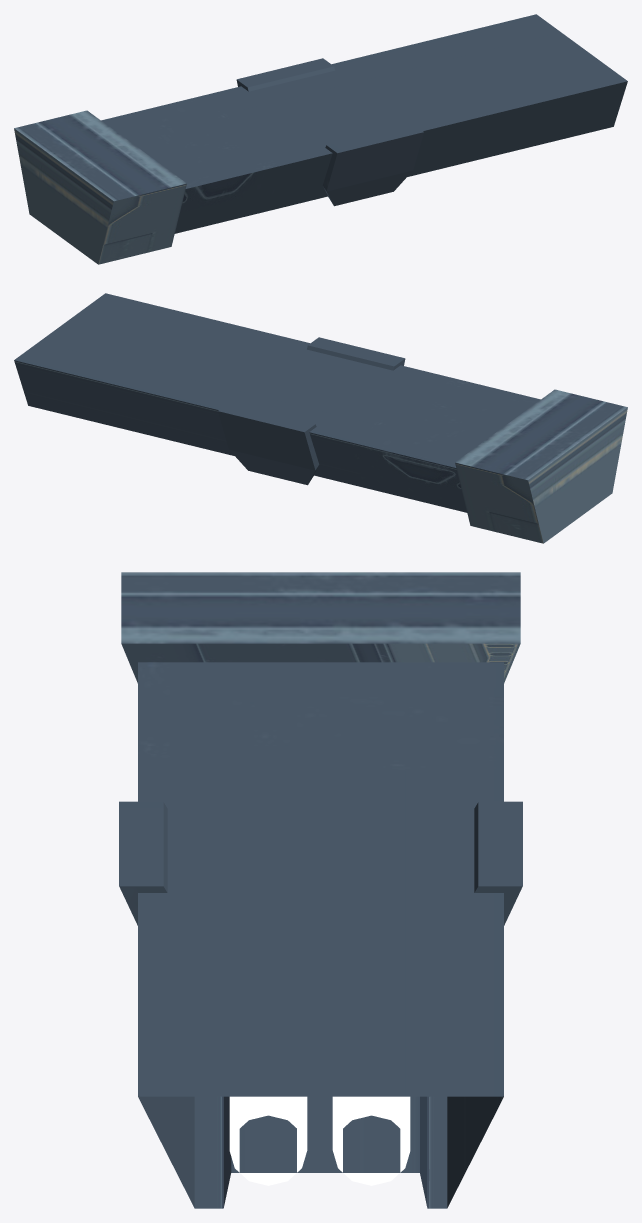
The model's file is Prop_Light_Wide.gltf.
The picture shows the model from 3 angles, top to bottom: view 1: azimuth 30°, elevation 25°; view 2: azimuth 150°, elevation 25°; view 3: azimuth 270°, elevation 25°; orthographic projection. The views are drawn at different scales.
Parts seen in each view (by area): view 1: Prop_Light_Wide; view 2: Prop_Light_Wide; view 3: Prop_Light_Wide.
Part boxes in pixels (x1,y1,x2,y2): Prop_Light_Wide: (14, 14, 627, 264); Prop_Light_Wide: (14, 293, 627, 543); Prop_Light_Wide: (119, 572, 522, 1208).
Bounding box in the file's own units: 1.32 × 0.1819 × 0.4453.
2 materials, 1 textured.
